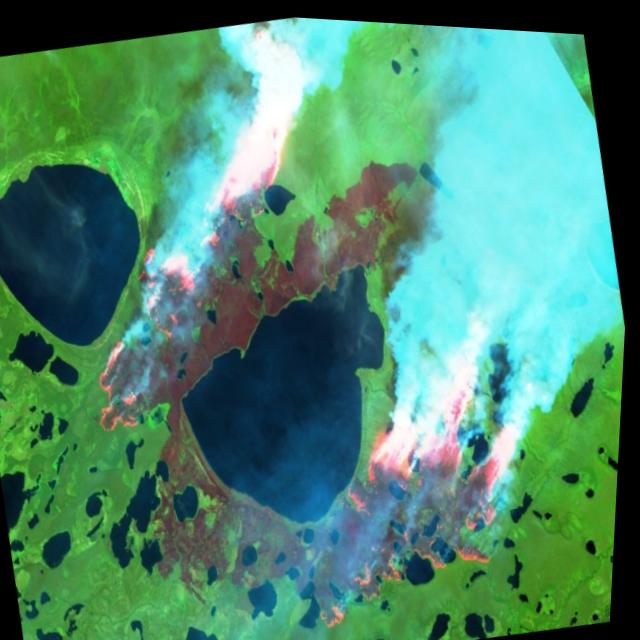fire: (20, 2, 594, 640)
